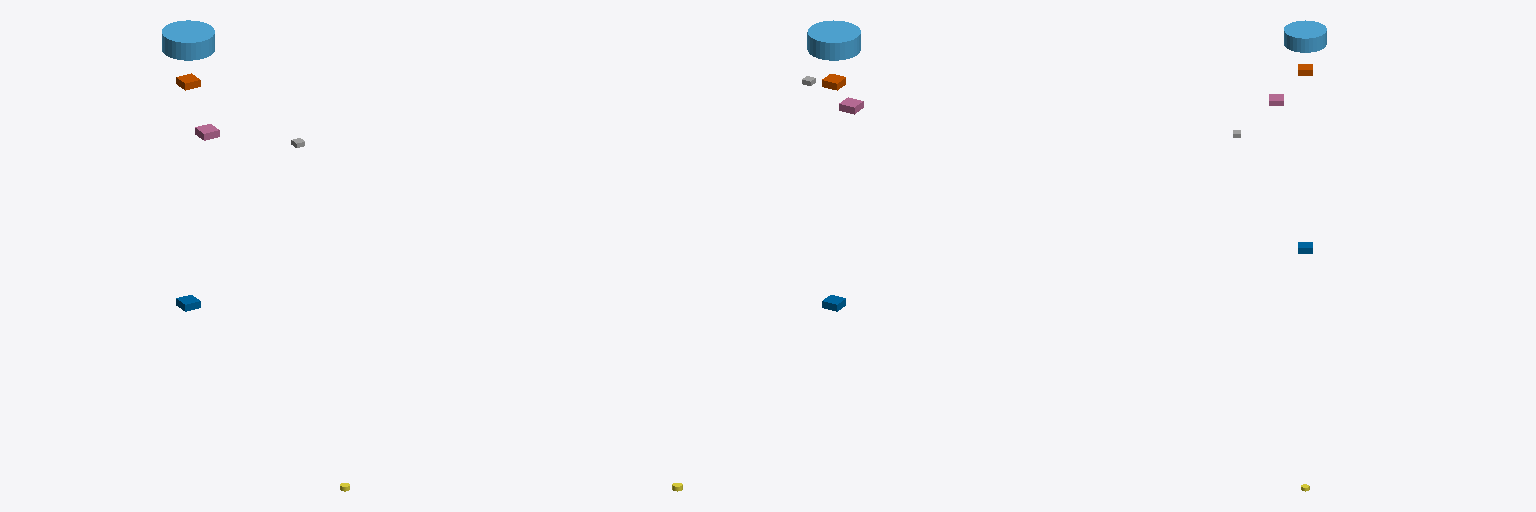
robot.urdf — autolabor:
<?xml version='1.0'?>

<!-- urdf: unified robot description format -->

<robot name="autolabor">

  <!-- materials color description -->
  <!-- <xacro:include filename="$(find autolabor_description)/urdf/materials.xacro" /> -->

  <!-- Link Define -->
  <link name="base_link">
    <visual>
      <!-- rpy: roll, pitch, yaw ; xyz; x, y, z position -->
      <origin rpy="1.57075 0 3.1415" xyz="0.2 -0.725 0"/>
      <!-- describe robot's appearance -->
      <geometry>
        <mesh filename="package://autolabor_description/meshes/body.dae" />
      </geometry>
    </visual>
  </link>

  <link name="velodyne_link">
    <visual>
      <origin xyz="0.0 0.0 0.0" />
      <geometry>
        <cylinder length="0.038" radius="0.052" />
      </geometry>
    </visual>
  </link>

  <link name="velodyne">
    <visual>
      <origin xyz="0.0 0.0 0.0" />
      <geometry>
        <cylinder length="0.038" radius="0.052" />
      </geometry>
      <material name="green"/>
    </visual>
  </link>

  <link name="ydlidar_link">
    <visual>
      <origin xyz="0.0 0.0 0.0" />
      <geometry>
        <cylinder length="0.01" radius="0.01" />
      </geometry>
      <!-- <material name="gray" /> -->
    </visual>
  </link>

  <link name="xsens_imu_odom_link">
    <visual>
      <origin xyz="0.0 0.0 0.0" />
      <geometry>
        <box size="0.035 0.035 0.015" />
      </geometry>
      <material name="black" />
    </visual>
  </link>

  <link name="wit_imu_link">
    <visual>
      <origin xyz="0.0 0.0 0.0" />
      <geometry>
        <box size="0.035 0.035 0.015" />
      </geometry>
      <material name="black" />
    </visual>
  </link>

  <link name="right_camera_link">
    <visual>
      <origin xyz="0.0 0.0 0.0" />
      <geometry>
        <box size="0.035 0.035 0.015" />
      </geometry>
      <material name="black" />
    </visual>
  </link>

  <link name="link_0">
    <visual>
      <origin xyz="0.0 0.0 0.0" />
      <geometry>
        <box size="0.02 0.02 0.01" />
      </geometry>
      <material name="black" />
    </visual>
  </link>

  <joint name="wit_imu_link_joint" type="fixed">
    <parent link="base_link" />
    <child link="wit_imu_link" />
    <origin xyz="-0.232 0 1.240" rpy="0 0 0" />
  </joint>

  <joint name="xsens_imu_odom_link_joint" type="fixed">
    <parent link="base_link" />
    <child link="xsens_imu_odom_link" />
    <origin xyz="-0.232 0 0.765" rpy="0 0 0" />
  </joint>

  <joint name="velodyne_link_joint" type="fixed">
    <parent link="base_link" />
    <child link="velodyne_link" />
    <origin xyz="-0.232 0 1.329" rpy="0 0 -0.03" />
  </joint>

  <joint name="velodyne_joint" type="fixed">
    <parent link="base_link" />
    <child link="velodyne" />
    <origin xyz="-0.232 0 1.329" rpy="0 0 -0.03" />
  </joint>

  <joint name="ydlidar_link_joint" type="fixed">
    <parent link="base_link" />
    <child link="ydlidar_link" />
    <origin xyz="0.12 0 0.288" rpy="0 0 0" />
  </joint>

  <joint name="right_camera_link_joint" type="fixed">
    <parent link="base_link" />
    <child link="right_camera_link" />
    <origin xyz="-0.23 -0.07 1.16" rpy="0 0 0" />
  </joint>

  <joint name="link_0_joint" type="fixed">
    <parent link="base_link" />
    <child link="link_0" />
    <origin xyz="-0.08 -0.165 1.14" rpy="0 0 0" />
  </joint>




</robot>

--- Render facts (derived) ---
Views: 3 orthographic renders of the robot side by side, from view 1: azimuth 30°, elevation 25°; view 2: azimuth 150°, elevation 25°; view 3: azimuth 270°, elevation 25°.
Model autolabor with 8 links and 7 joints (7 fixed), rooted at base_link, posed every joint at zero.
Visible links, largest first — view 1: velodyne_link; view 2: velodyne_link; view 3: velodyne_link.
Link boxes in pixels (box(x1,y1,x2,y2)): velodyne_link: box(162, 20, 214, 60); velodyne_link: box(807, 20, 860, 60); velodyne_link: box(1284, 20, 1326, 52).
Bounding box of the posed robot: 0.414 × 0.227 × 1.06 m (x, y, z).
Meshes: 1 distinct files referenced, 0 mesh visuals loaded (none loaded); not drawn: 1 (reference not matched to a file when rendering).
